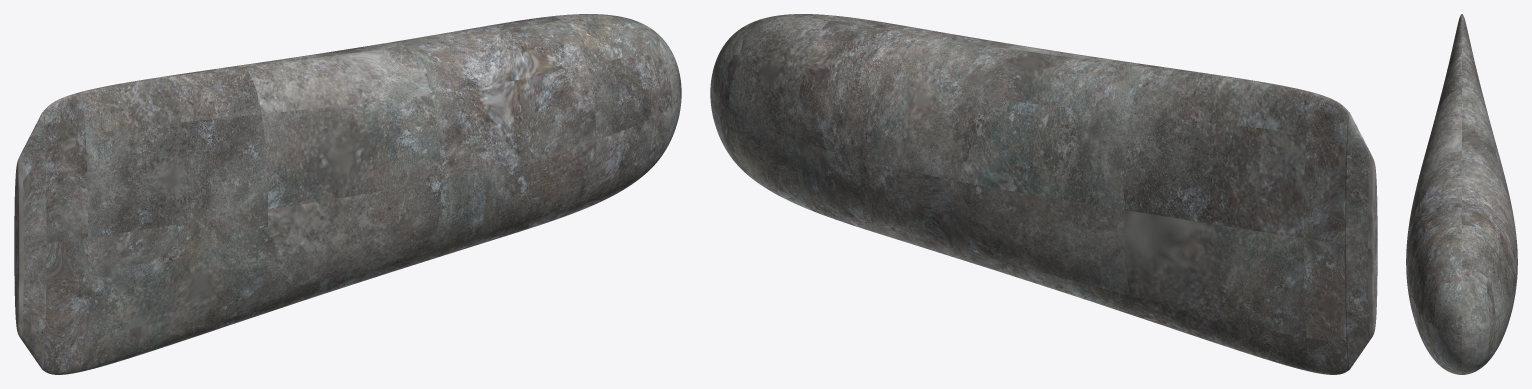
Rendered from Correct_Stone.fbx.
3 renders of one model, left to right at view 1: azimuth 30°, elevation 25°; view 2: azimuth 150°, elevation 25°; view 3: azimuth 270°, elevation 25°, orthographic. The views are drawn at different scales.
Parts seen in each view (by area): view 1: Right Stone; view 2: Right Stone; view 3: Right Stone.
Part boxes in pixels (x1,y1,x2,y2): Right Stone: (14, 14, 681, 374); Right Stone: (710, 14, 1377, 374); Right Stone: (1406, 14, 1517, 374).
Size of the model in its own units: 209 by 84.62 by 42.1.
Materials: 1 (1 with a texture image).
